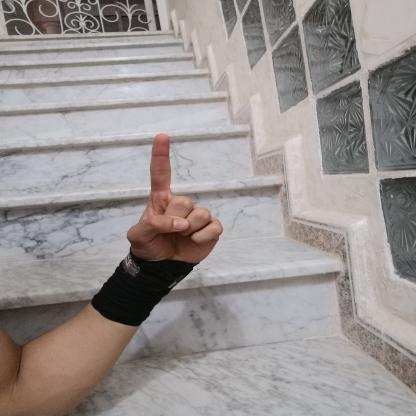BAA: (120, 124, 235, 272)
